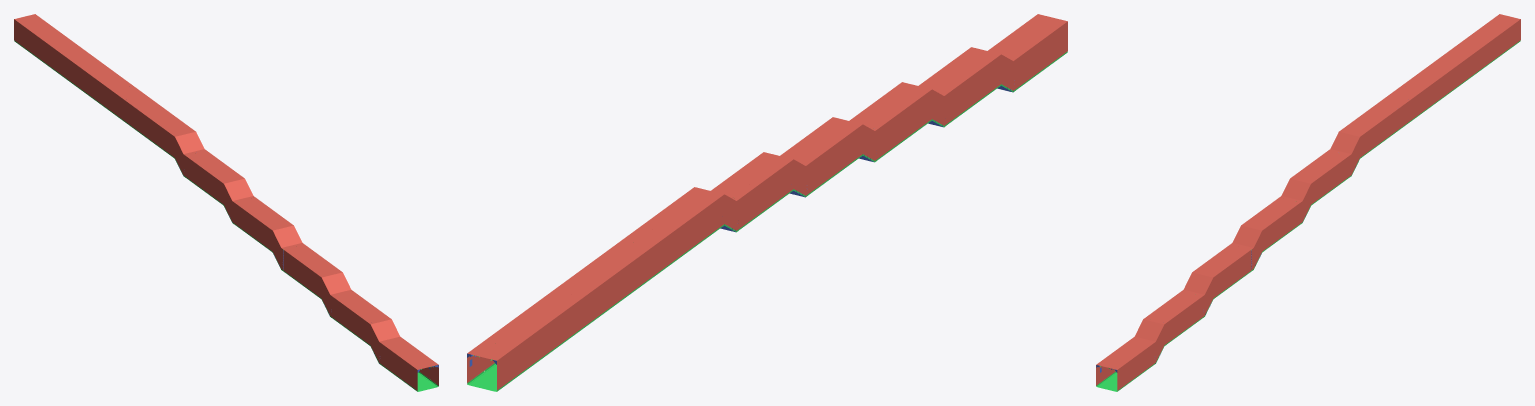
File: Hallway_Array_Sara_20250409.fbx
3 views of the same model, side by side, from view 1: azimuth 30°, elevation 25°; view 2: azimuth 150°, elevation 25°; view 3: azimuth 330°, elevation 25° (orthographic). The views are drawn at different scales.
Visible parts, largest first — view 1: Hallway1.004, Hallway2, Hallway1.001, Hallway1, Hallway1.002, Hallway1.003; view 2: Hallway1.004, Hallway1.001, Hallway1, Hallway1.002, Hallway2, Hallway1.003; view 3: Hallway1.004, Hallway2, Hallway1.001, Hallway1, Hallway1.002, Hallway1.003.
Boxes of the visible parts, box(x1,y1,x2,y2) form: Hallway1.004: box(14, 14, 157, 130); Hallway2: box(173, 130, 401, 364); Hallway1.001: box(148, 112, 426, 382); Hallway1: box(136, 103, 413, 373); Hallway1.002: box(161, 121, 389, 344); Hallway1.003: box(405, 356, 438, 391); Hallway1.004: box(467, 227, 669, 391); Hallway1.001: box(657, 26, 1050, 252); Hallway1: box(640, 39, 1033, 264); Hallway1.002: box(675, 49, 998, 239); Hallway2: box(692, 47, 1015, 232); Hallway1.003: box(1021, 14, 1067, 64); Hallway1.004: box(1377, 14, 1520, 130); Hallway2: box(1133, 130, 1361, 364); Hallway1.001: box(1108, 112, 1386, 382); Hallway1: box(1121, 103, 1398, 373); Hallway1.002: box(1145, 121, 1373, 344); Hallway1.003: box(1096, 356, 1129, 391).
Bounding box in the file's own units: 201 × 700 × 6600.
